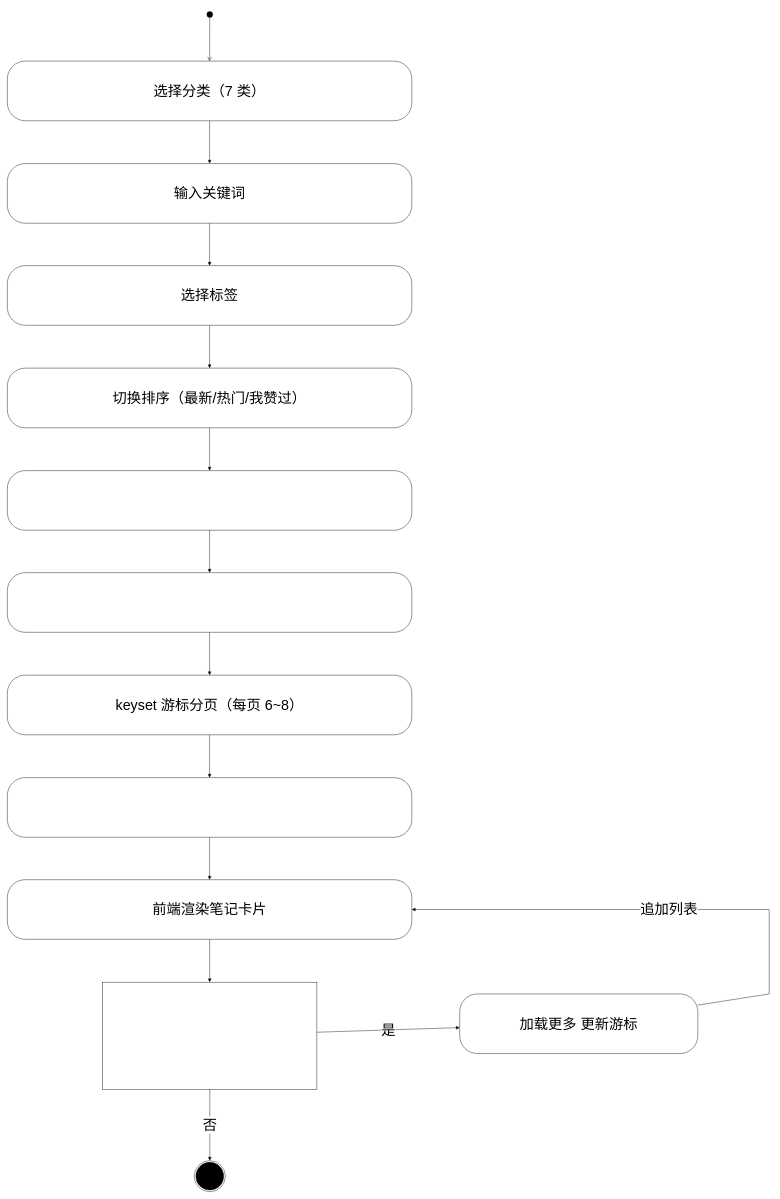
This 780x1199 diagram has some shape labels left out. The centre of each missing label's shape, as x and y in pixels:
GET /notes（游标 + 过滤参数）: pixel 209 500
后端应用层过滤 + 排序: pixel 209 602
有下一页 且滚动到底？: pixel 209 1035
返回列表 + nextCursor: pixel 209 807
